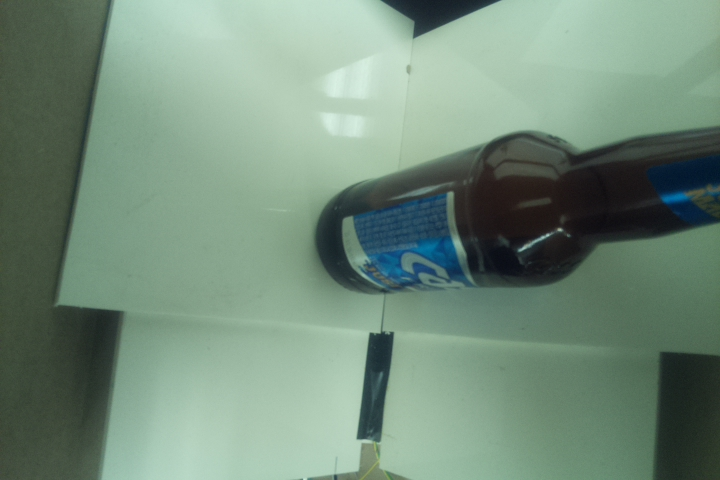makju: (312, 120, 720, 297)
